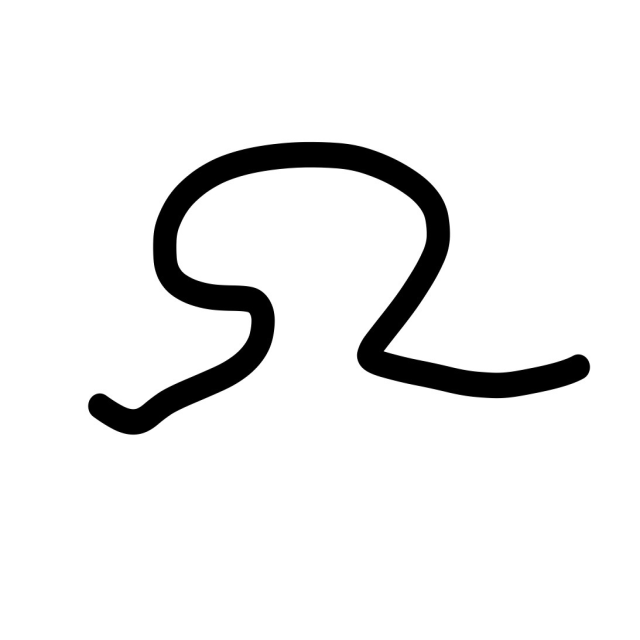ohms: (25, 97, 619, 496)
